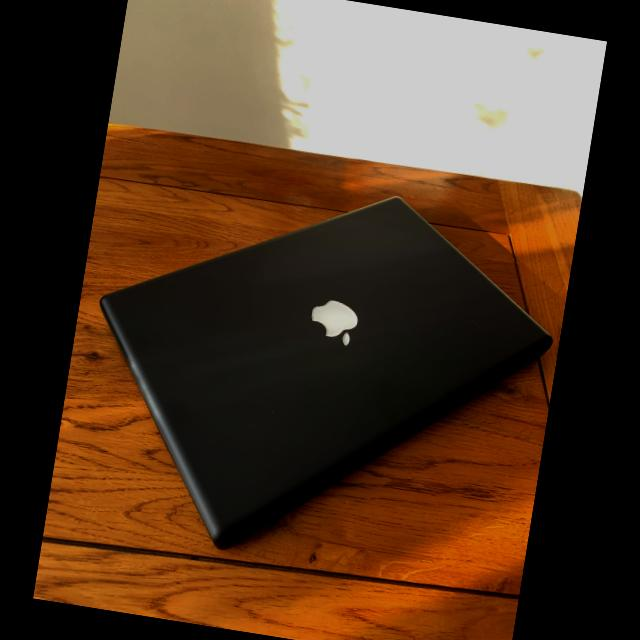laptop: (54, 148, 578, 612)
